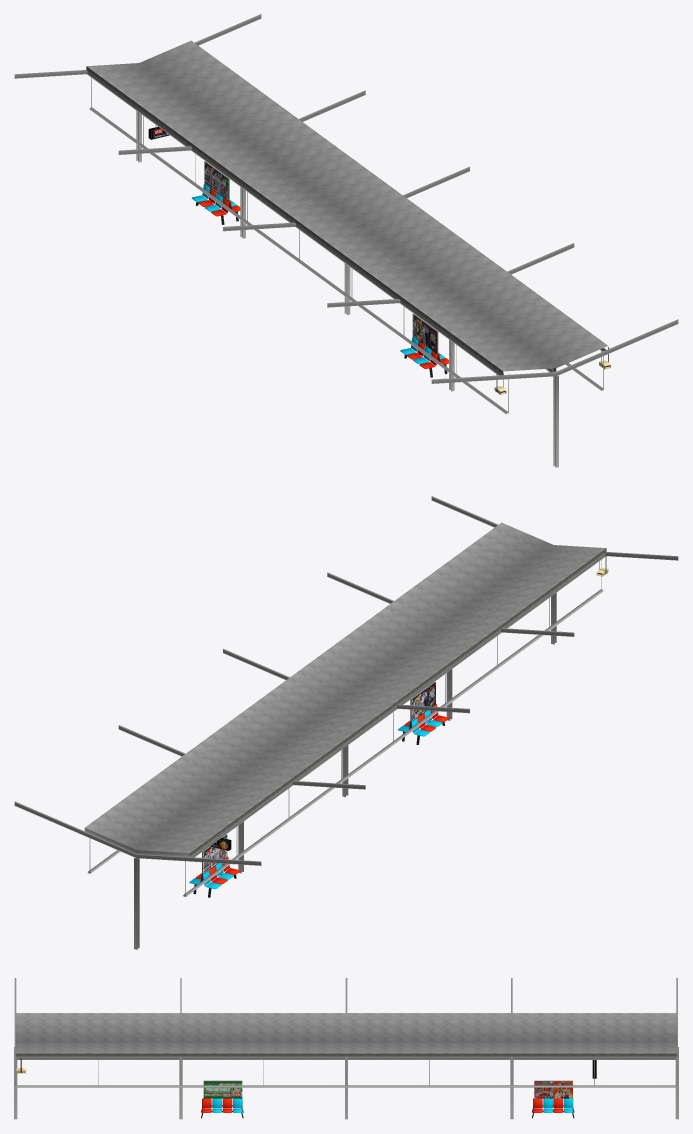
The model's file is AMB_HT_ST00.glb.
The picture shows the model from 3 angles, top to bottom: view 1: azimuth 30°, elevation 25°; view 2: azimuth 150°, elevation 25°; view 3: azimuth 270°, elevation 25°; orthographic projection. The views are drawn at different scales.
Parts seen in each view (by area): view 1: bone_02-14, obj22, obj24; view 2: bone_02-14, obj22, obj24; view 3: bone_02-14, obj22, obj24, bone_05.
Part boxes in pixels (x1=…): bone_02-14: x1=14, y1=14, x2=678, y2=413; obj22: x1=400, y1=314, x2=448, y2=377; obj24: x1=191, y1=161, x2=240, y2=224; bone_02-14: x1=14, y1=496, x2=678, y2=896; obj22: x1=398, y1=682, x2=448, y2=744; obj24: x1=189, y1=834, x2=240, y2=897; bone_02-14: x1=14, y1=978, x2=677, y2=1087; obj22: x1=201, y1=1080, x2=243, y2=1118; obj24: x1=532, y1=1080, x2=574, y2=1118; bone_05: x1=179, y1=1060, x2=182, y2=1119.
Bounding box in the file's own units: 34.19 × 15.51 × 100.
27 materials, 26 textured.
